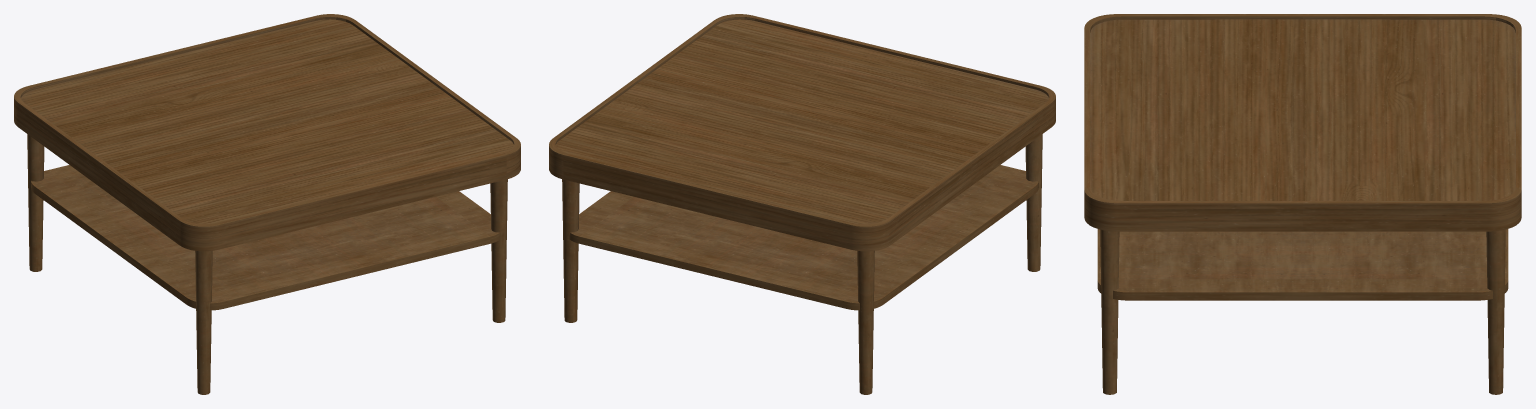
The model's file is SM_CoffeeTable_01b.fbx.
3 views of the same model, side by side, from view 1: azimuth 30°, elevation 25°; view 2: azimuth 150°, elevation 25°; view 3: azimuth 270°, elevation 25° (orthographic). The views are drawn at different scales.
Parts seen in each view (by area): view 1: SM_CoffeeTable_01b; view 2: SM_CoffeeTable_01b; view 3: SM_CoffeeTable_01b.
Boxes of the visible parts, x1=… form: SM_CoffeeTable_01b: x1=14, y1=14, x2=520, y2=394; SM_CoffeeTable_01b: x1=549, y1=14, x2=1055, y2=394; SM_CoffeeTable_01b: x1=1084, y1=14, x2=1521, y2=394.
Bounding box in the file's own units: 81.96 × 40.47 × 80.
